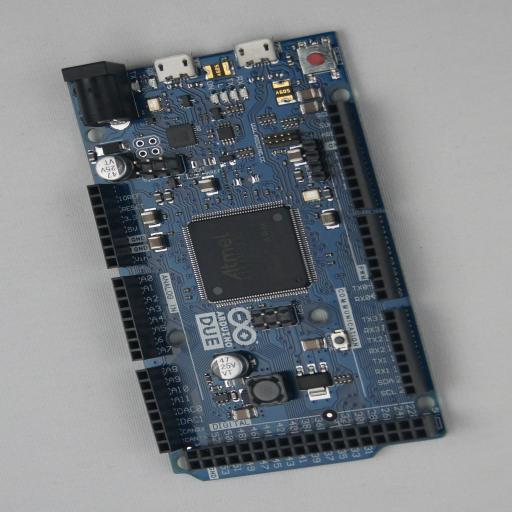Arduino Due: (62, 31, 448, 481)
